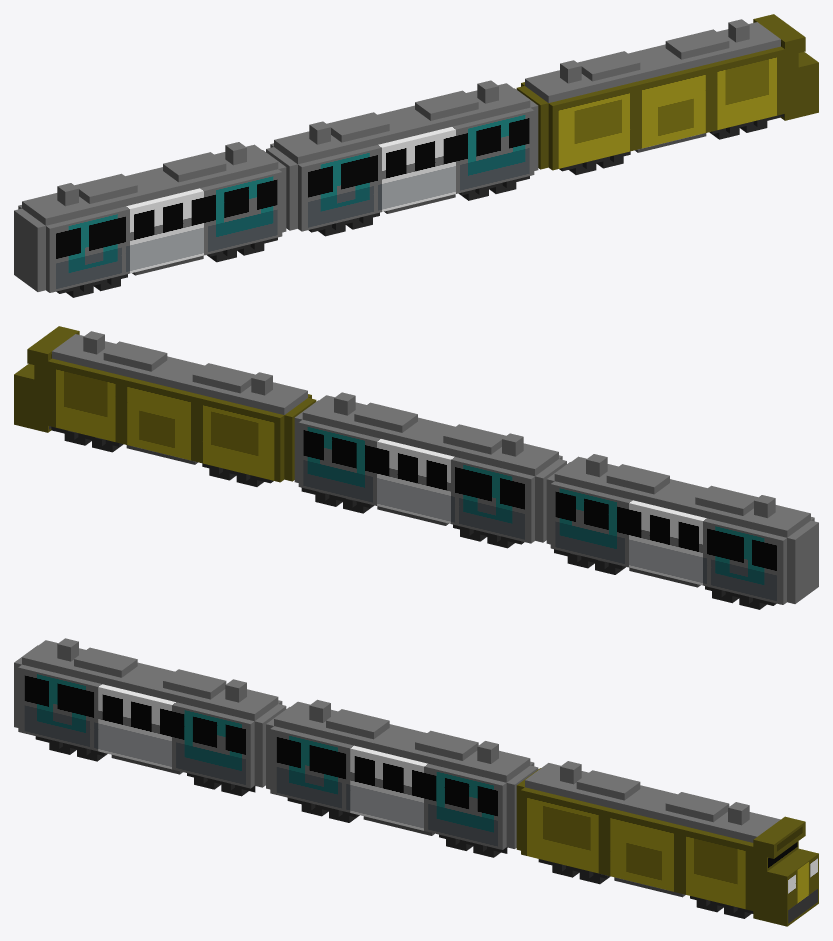
File: TrainModel.fbx
3 renders of one model, top to bottom at view 1: azimuth 30°, elevation 25°; view 2: azimuth 150°, elevation 25°; view 3: azimuth 330°, elevation 25°, orthographic.
Visible parts, largest first — view 1: TrainModel.006; view 2: TrainModel.006; view 3: TrainModel.006.
Part boxes in pixels (x1,y1,x2,y2): TrainModel.006: (14,14,818,297); TrainModel.006: (14,326,818,609); TrainModel.006: (14,638,818,926).
Size of the model in its own units: 2933 by 210 by 361.
Materials: 1 (1 with a texture image).
